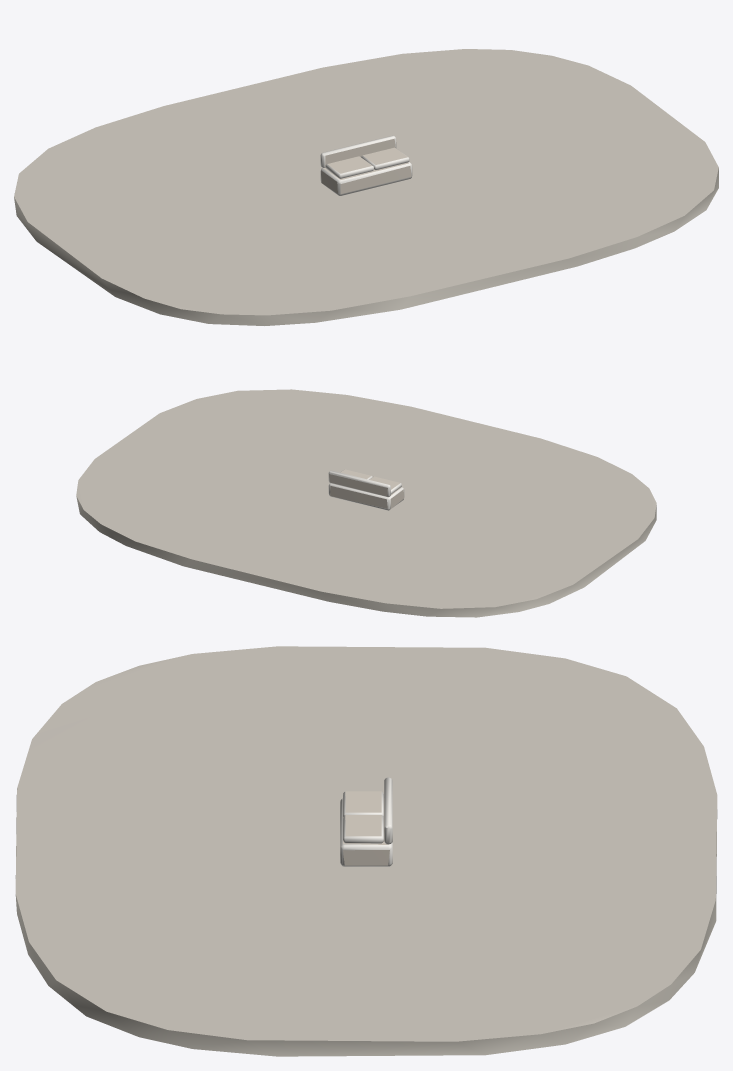
The picture shows the model from 3 angles, top to bottom: view 1: azimuth 30°, elevation 25°; view 2: azimuth 150°, elevation 25°; view 3: azimuth 270°, elevation 25°; orthographic projection. The views are drawn at different scales.
Parts seen in each view (by area): view 1: T_Floor_LOD2, T_Sofa_LOD2; view 2: T_Floor_LOD2, T_Sofa_LOD2; view 3: T_Floor_LOD2, T_Sofa_LOD2.
Part boxes in pixels (x1,y1,x2,y2): T_Floor_LOD2: (14,49,718,325); T_Sofa_LOD2: (320,135,412,195); T_Floor_LOD2: (76,389,656,617); T_Sofa_LOD2: (328,469,404,510); T_Floor_LOD2: (15,646,717,1056); T_Sofa_LOD2: (340,777,392,866).
Bounding box in the file's own units: 16 × 12 × 1.1.
